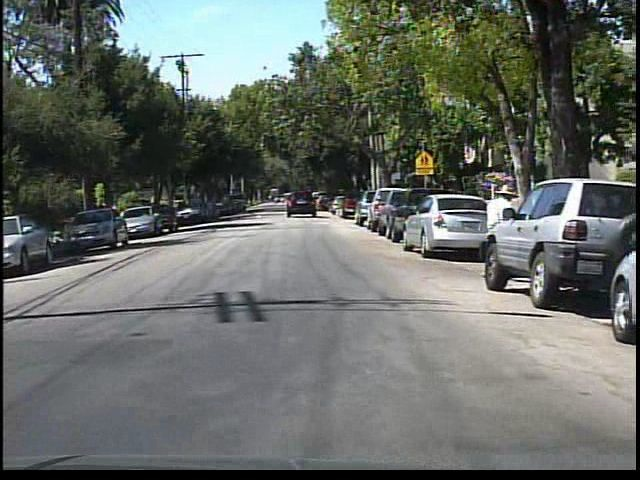person: (475, 179, 518, 288)
